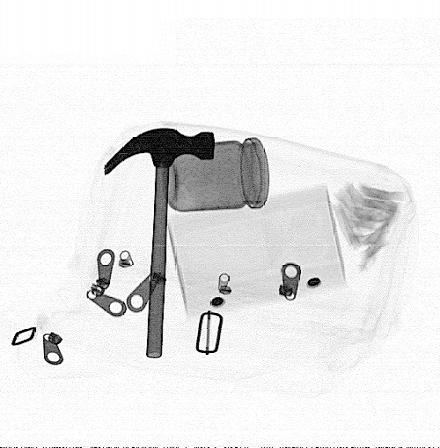Hammer: (103, 127, 215, 359)
